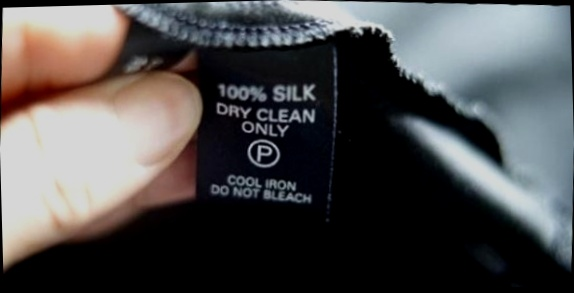dry_clean_any_solvent_except_trichloroethylene: (247, 136, 283, 169)
